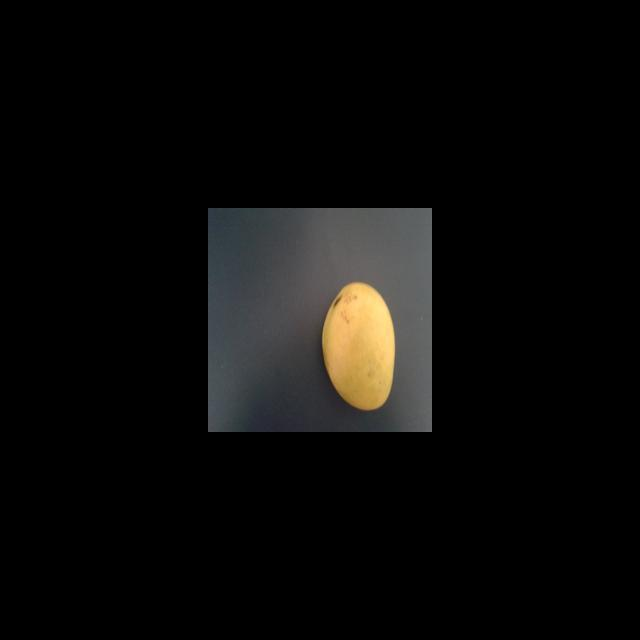Mango: (321, 281, 395, 411)
